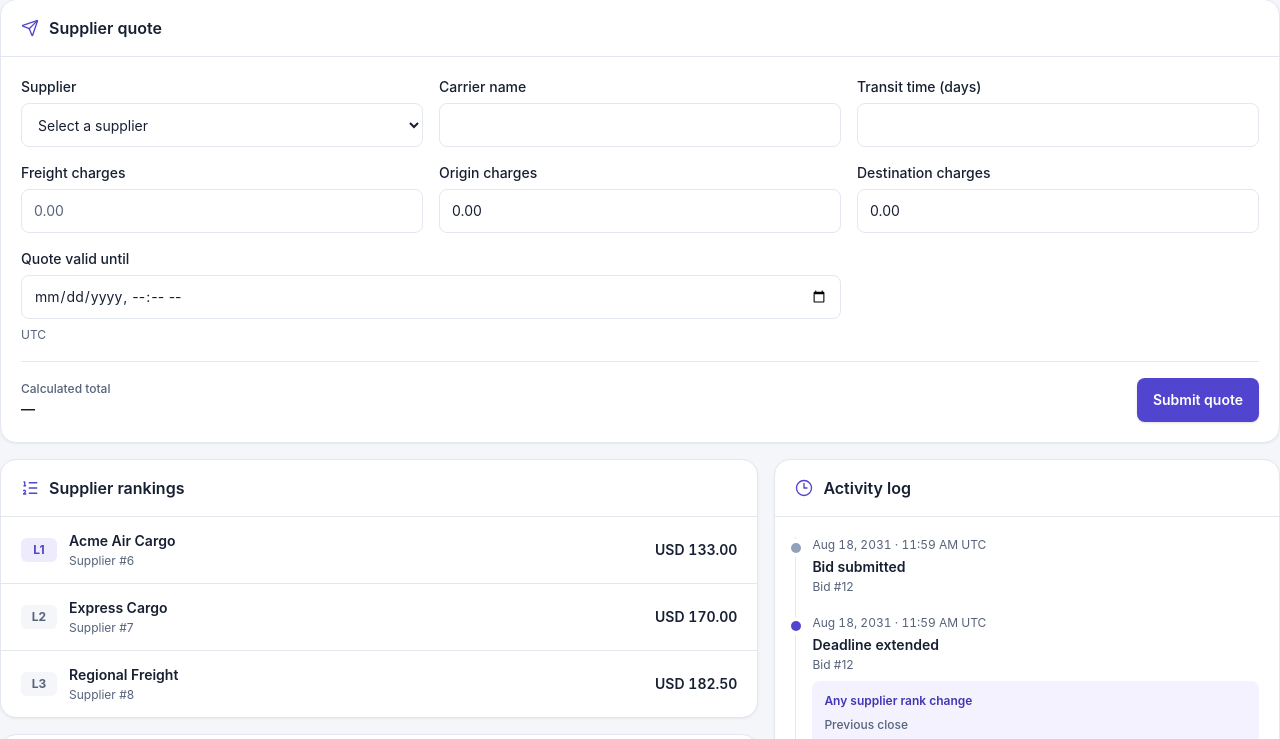
Test case: focuses the first invalid quote field in form order
(page scrolled)
Click the button "Submit quote". click: coordinates (1198, 400)
box: [1137,378,1259,422]
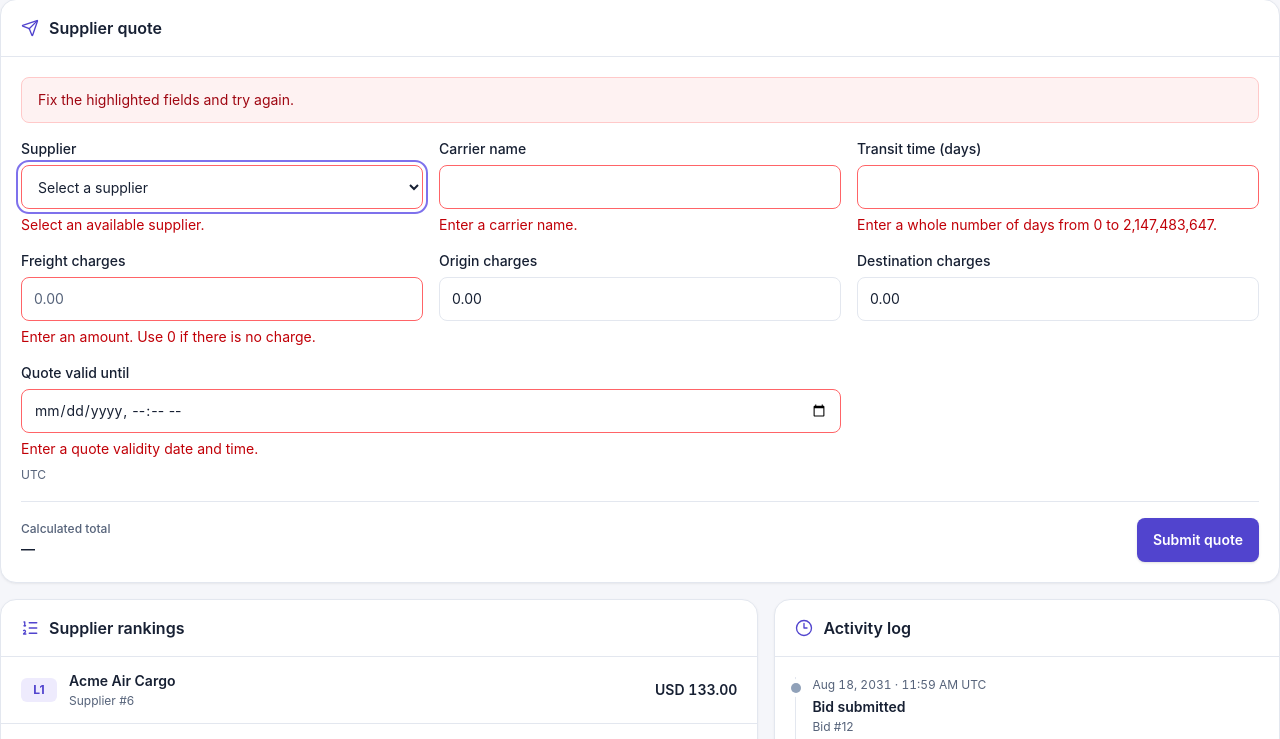
Check: the text "Select an available supplier." is shown, box [21,216,204,233]
